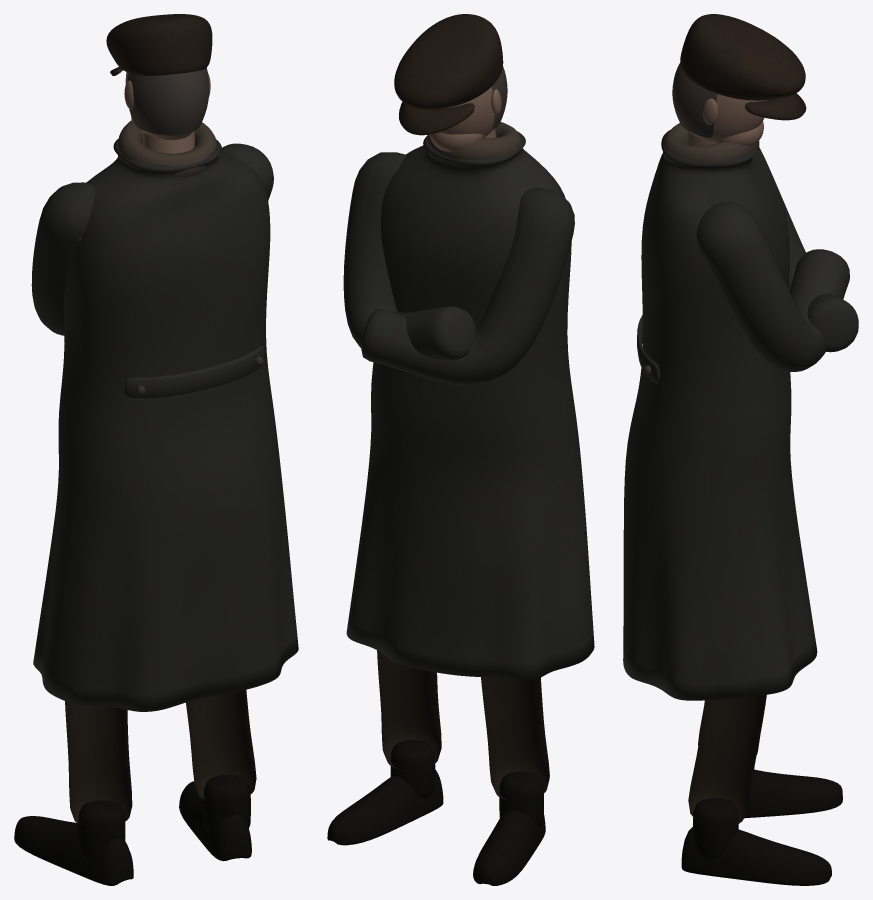
The model's file is worker-arms-folded.glb.
3 renders of one model, left to right at view 1: azimuth 30°, elevation 25°; view 2: azimuth 150°, elevation 25°; view 3: azimuth 270°, elevation 25°, orthographic. The views are drawn at different scales.
Parts seen in each view (by area): view 1: worker-arms-folded-body; view 2: worker-arms-folded-body; view 3: worker-arms-folded-body.
Part boxes in pixels (<box>): worker-arms-folded-body: <box>14,14,298,885</box>; worker-arms-folded-body: <box>327,14,594,885</box>; worker-arms-folded-body: <box>623,14,858,885</box>.
Size of the model in its own units: 0.5021 by 1.73 by 0.4505.
8 materials, 5 textured.
